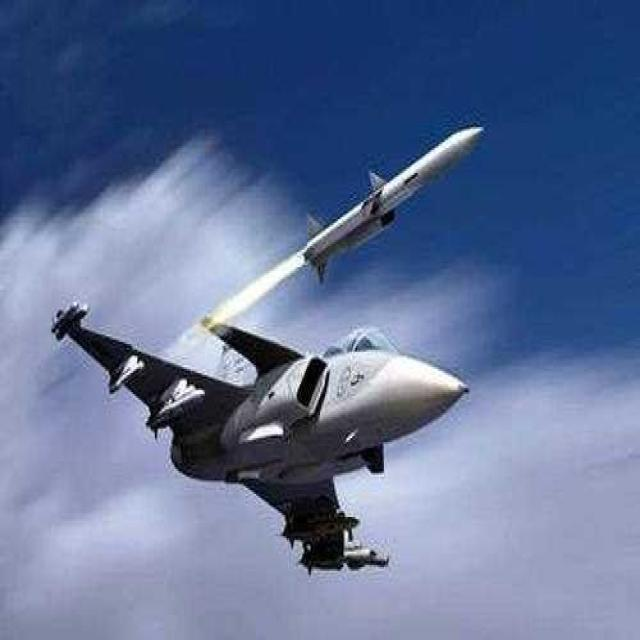missile: (298, 120, 488, 288)
